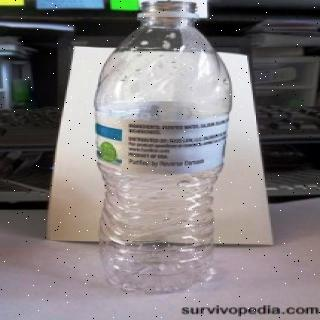Plastic-bottle: (88, 2, 243, 300)
